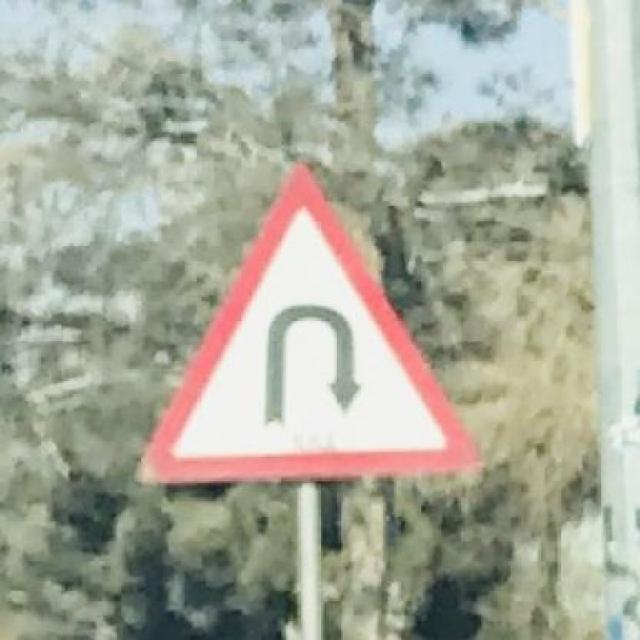u turn: (135, 158, 476, 481)
